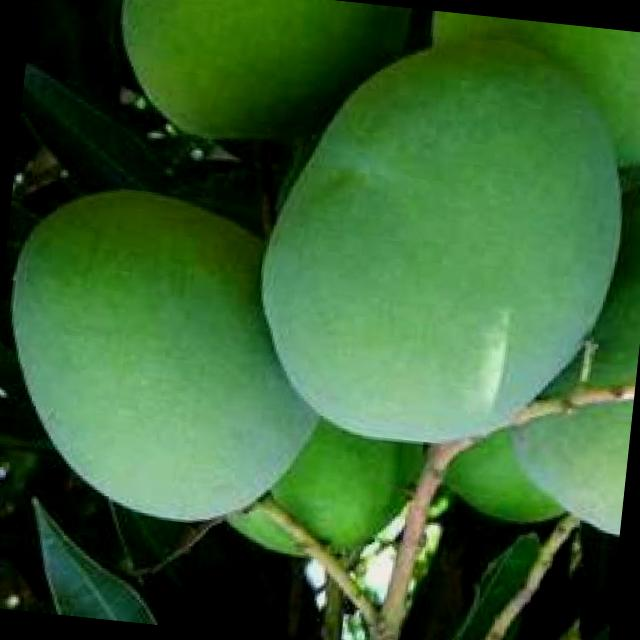Mango: (242, 19, 640, 460), (0, 177, 335, 531), (500, 181, 640, 537), (104, 0, 411, 162), (419, 10, 640, 180), (228, 412, 422, 578), (432, 420, 572, 524)
